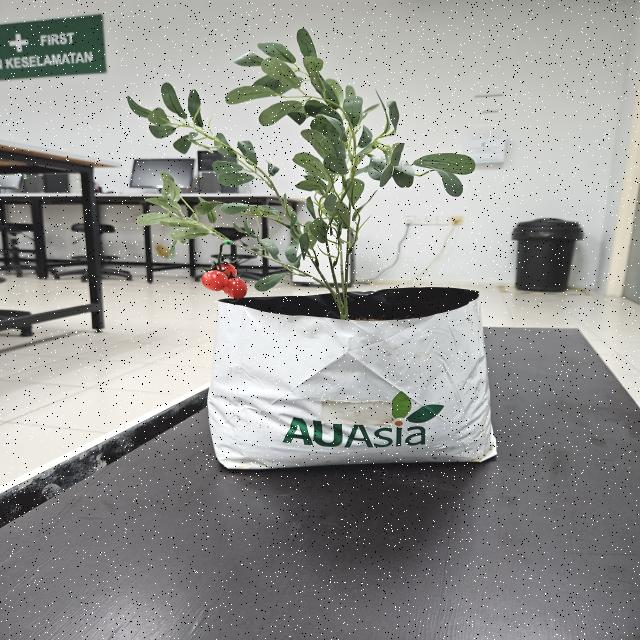Soilbag: (206, 287, 498, 473)
Tomato: (200, 262, 249, 303)
plant: (125, 29, 476, 320)
